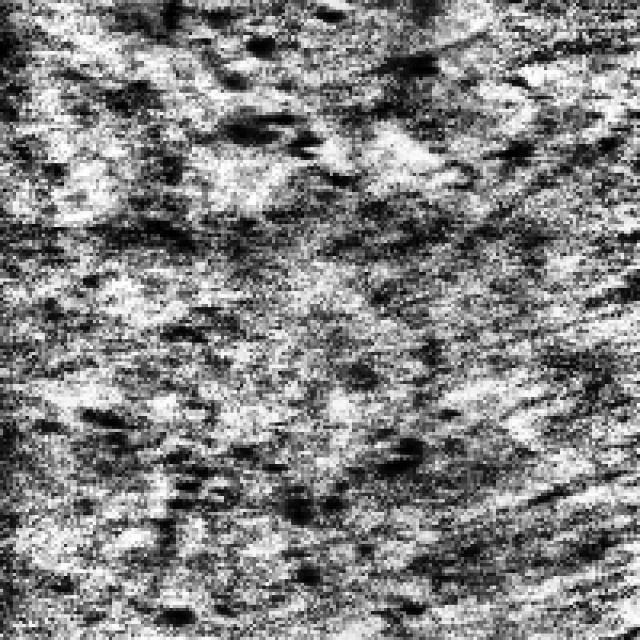Crazing: (70, 394, 442, 596), (109, 0, 468, 163)
